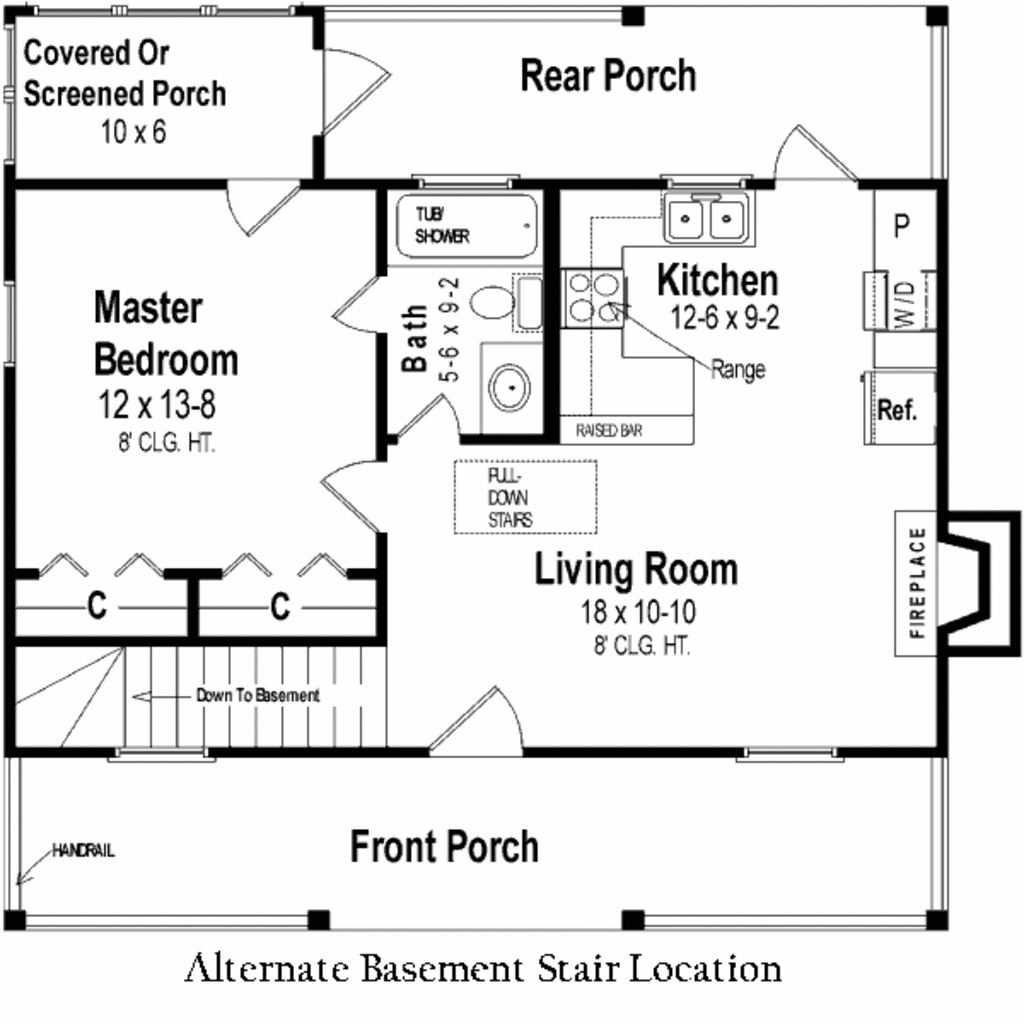door: (412, 680, 548, 764), (772, 116, 878, 203), (215, 165, 309, 259), (309, 38, 391, 132), (313, 453, 390, 540), (334, 257, 405, 340), (380, 387, 475, 445)
large_sink: (458, 270, 556, 345)
small_sink: (464, 343, 556, 441)
stairs: (4, 632, 405, 760)
tub: (385, 186, 552, 272)
twin_sink: (623, 151, 766, 256)
window: (2, 278, 32, 370), (101, 745, 225, 767), (741, 747, 854, 763)
